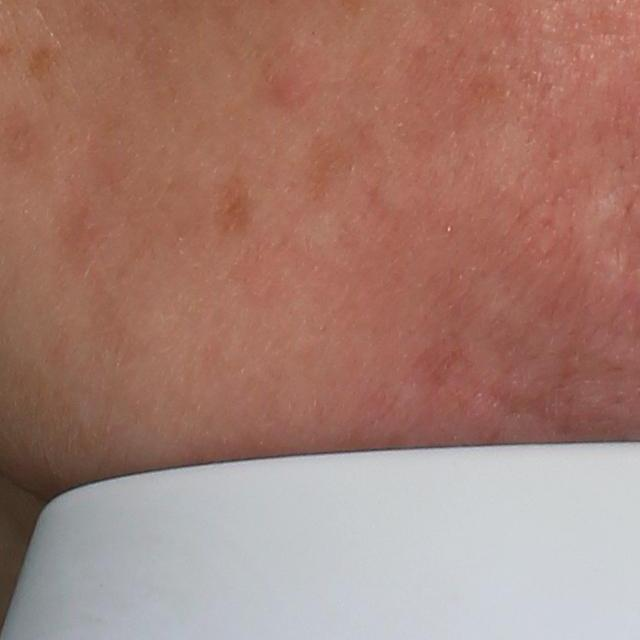hypertrophic_scar: (560, 179, 631, 286)
